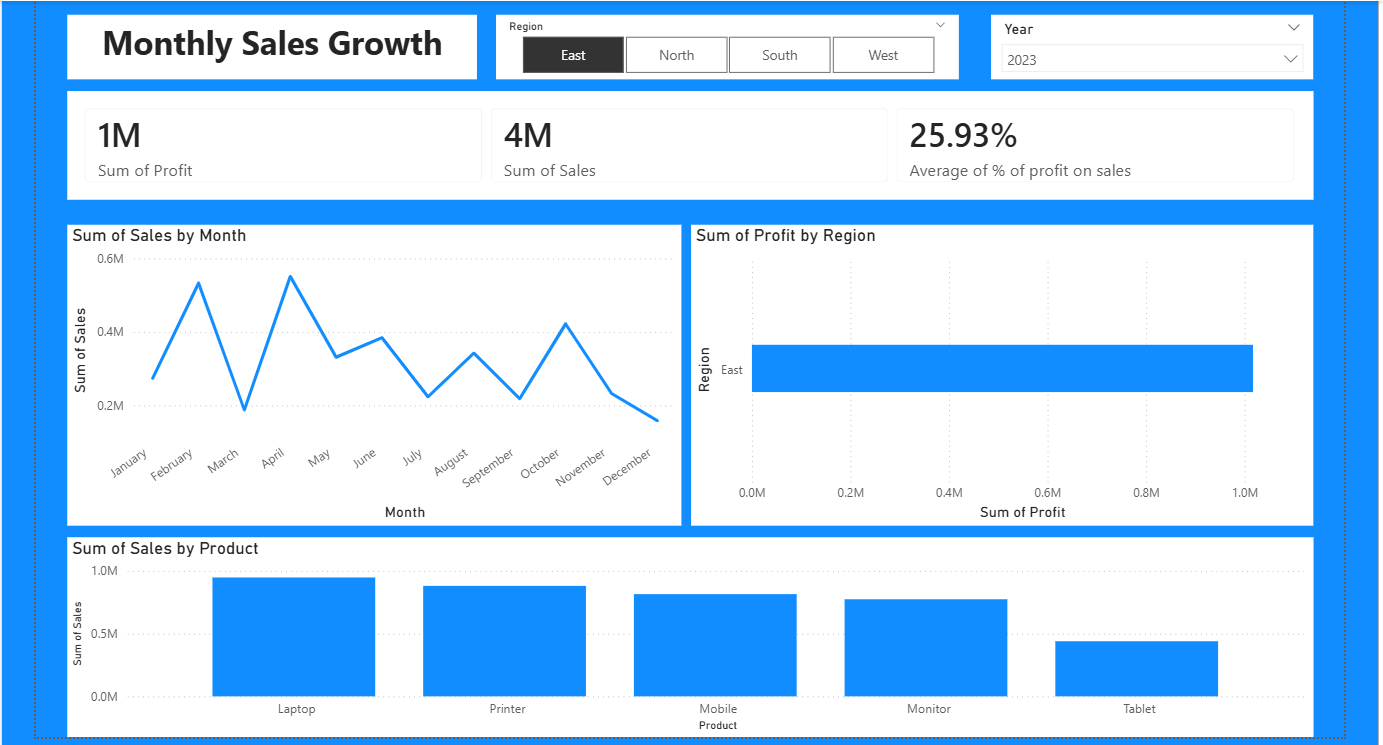

What the dashboard file says about the page in this screenshot:
{"tool":"powerbi","page":{"name":"Sales Dashboard","canvas":[1280,720],"ordinal":0},"visuals":[{"type":"cardVisual","fields":{"Data":["Sum(Sales_Cleaned.Profit)","Sum(Sales_Cleaned.Sales)","Avg(Sales_Cleaned.% of profit on sales)"]},"box":[30.6,88,1219.2,106.4],"z":0},{"type":"lineChart","fields":{"Y":["Sum(Sales_Cleaned.Sales)"],"Category":["Sales_Cleaned.Order_Date.Variation.Date Hierarchy.Month"]},"box":[30.6,218.9,600.4,294.7],"z":1000},{"type":"barChart","fields":{"Category":["Sales_Cleaned.Region"],"Y":["Sum(Sales_Cleaned.Profit)"]},"box":[640.8,218.9,609,294.7],"z":2000},{"type":"columnChart","fields":{"Category":["Sales_Cleaned.Product"],"Y":["Sum(Sales_Cleaned.Sales)"]},"box":[30.6,524.6,1219.2,195.7],"z":3000},{"type":"slicer","fields":{"Values":["Sales_Cleaned.Order_Date.Variation.Date Hierarchy.Year"]},"box":[934.2,13.5,315.5,63.6],"z":3001},{"type":"slicer","fields":{"Values":["Sales_Cleaned.Region"]},"box":[450,13.5,452.4,63.6],"z":3002},{"type":"textbox","box":[30.6,13.5,401.1,63.6],"z":3003}]}

Visuals, with their boxes in screenshot pixels (x1, y1, x2, y2):
cardVisual - Sum(Sales_Cleaned.Profit) x Sum(Sales_Cleaned.Sales): box(64, 86, 1309, 195)
lineChart - Sum(Sales_Cleaned.Sales) x Sales_Cleaned.Order_Date.Variation.Date Hierarchy.Month: box(64, 220, 677, 521)
barChart - Sales_Cleaned.Region x Sum(Sales_Cleaned.Profit): box(687, 220, 1309, 521)
columnChart - Sales_Cleaned.Product x Sum(Sales_Cleaned.Sales): box(64, 532, 1309, 732)
slicer - Sales_Cleaned.Order_Date.Variation.Date Hierarchy.Year: box(986, 10, 1309, 75)
slicer - Sales_Cleaned.Region: box(492, 10, 954, 75)
textbox: box(64, 10, 473, 75)
